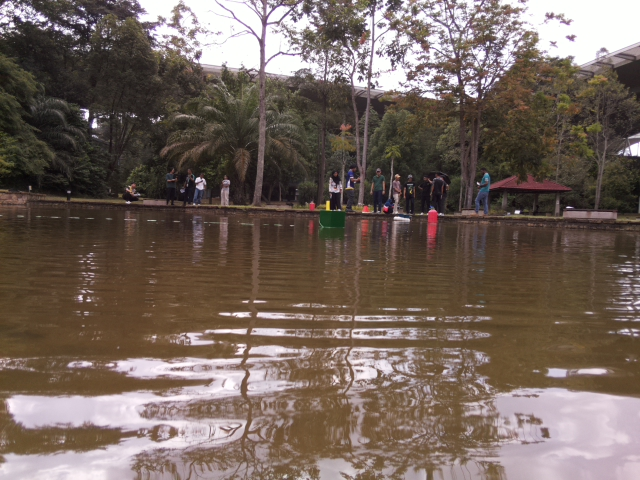obstacle: (317, 211, 346, 230)
